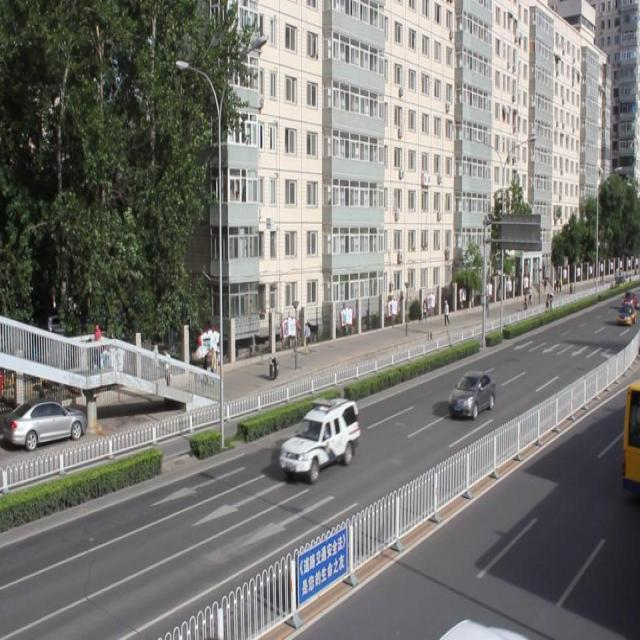car: (279, 396, 357, 480), (448, 369, 494, 418)
